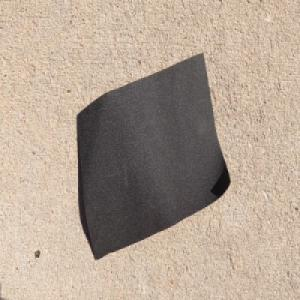PaintChip: (75, 50, 231, 261)
